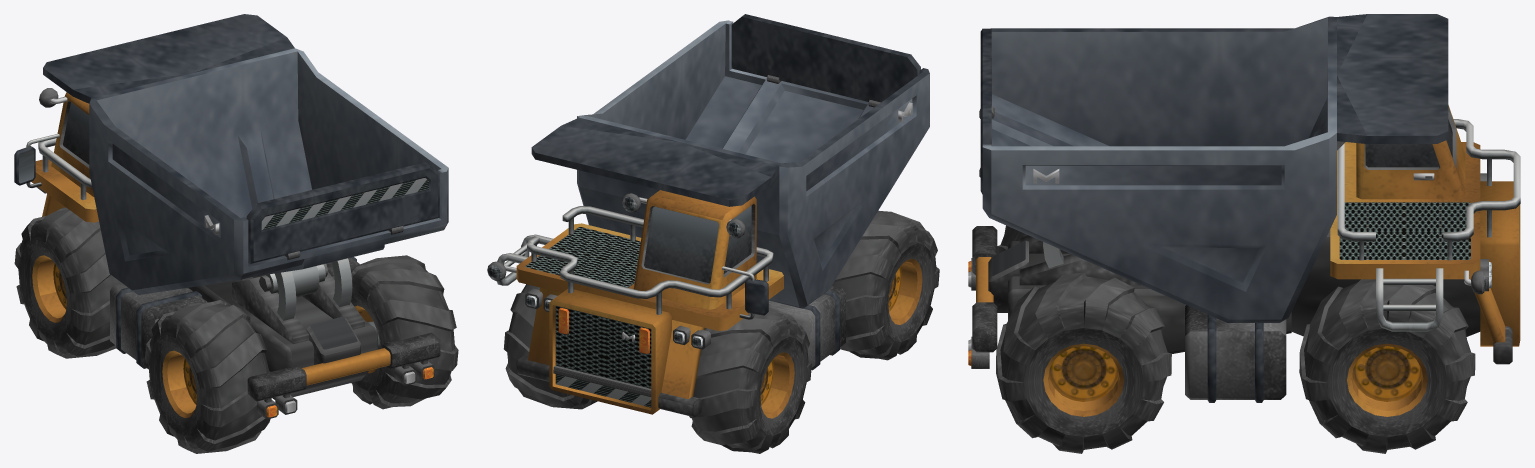
The model's file is VHC0110024.FBX.
3 renders of one model, left to right at view 1: azimuth 30°, elevation 25°; view 2: azimuth 150°, elevation 25°; view 3: azimuth 270°, elevation 25°, orthographic. The views are drawn at different scales.
Visible parts, largest first — view 1: smVHC0110024; view 2: smVHC0110024; view 3: smVHC0110024.
Part boxes in pixels (x1,y1,x2,y2): smVHC0110024: [14, 14, 458, 453]; smVHC0110024: [487, 14, 939, 453]; smVHC0110024: [968, 14, 1520, 453].
Bounding box in the file's own units: 440 × 412 × 655.
Materials: 1 (1 with a texture image).
